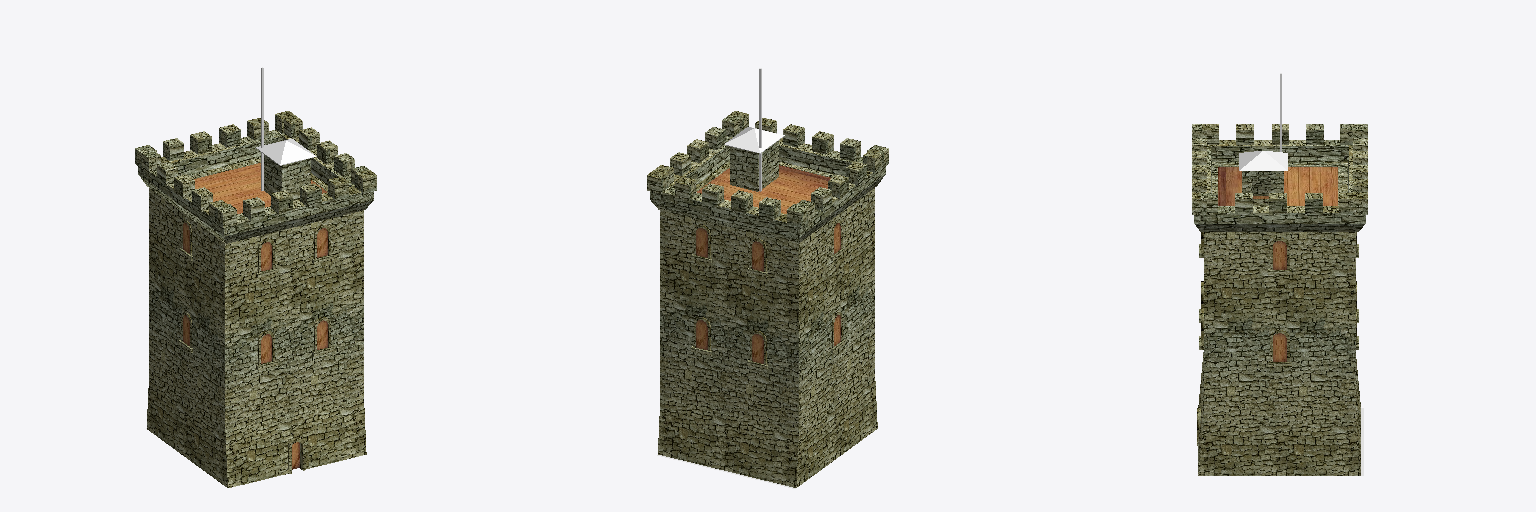
The picture shows the model from 3 angles: view 1: azimuth 30°, elevation 25°; view 2: azimuth 150°, elevation 25°; view 3: azimuth 270°, elevation 25°; orthographic projection.
Parts seen in each view (by area): view 1: limestone, floor, roof; view 2: limestone, floor, roof; view 3: limestone, floor, roof.
Boxes of the visible parts, x1=… form: limestone: x1=135, y1=111, x2=376, y2=487; floor: x1=183, y1=163, x2=327, y2=469; roof: x1=256, y1=67, x2=316, y2=190; limestone: x1=647, y1=111, x2=888, y2=487; floor: x1=696, y1=165, x2=840, y2=363; roof: x1=724, y1=68, x2=784, y2=191; limestone: x1=1192, y1=124, x2=1367, y2=475; floor: x1=1218, y1=167, x2=1337, y2=361; roof: x1=1239, y1=73, x2=1287, y2=170.
Bounding box in the file's own units: 84.84 × 196 × 84.17.
Materials: 5 (3 with a texture image).